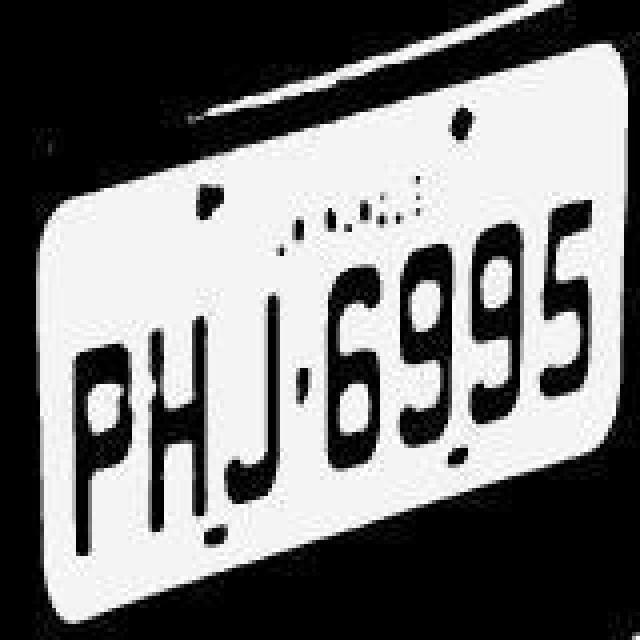5: (538, 196, 598, 412)
6: (318, 260, 386, 476)
9: (390, 236, 458, 460), (464, 218, 528, 438)
H: (138, 306, 214, 534)
J: (222, 286, 290, 514)
P: (56, 334, 136, 562)
